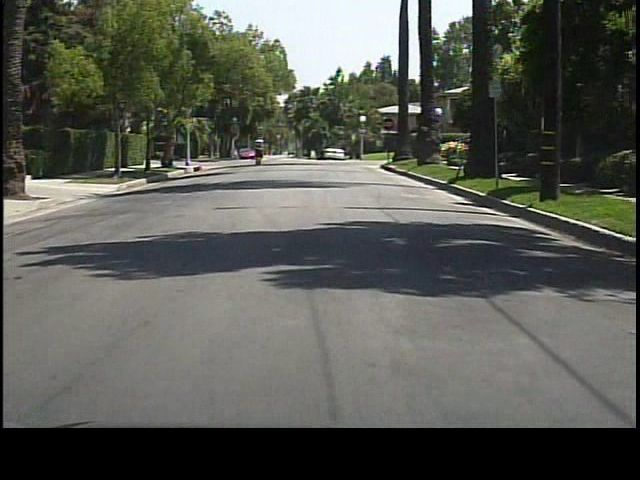person: (252, 136, 266, 168)
